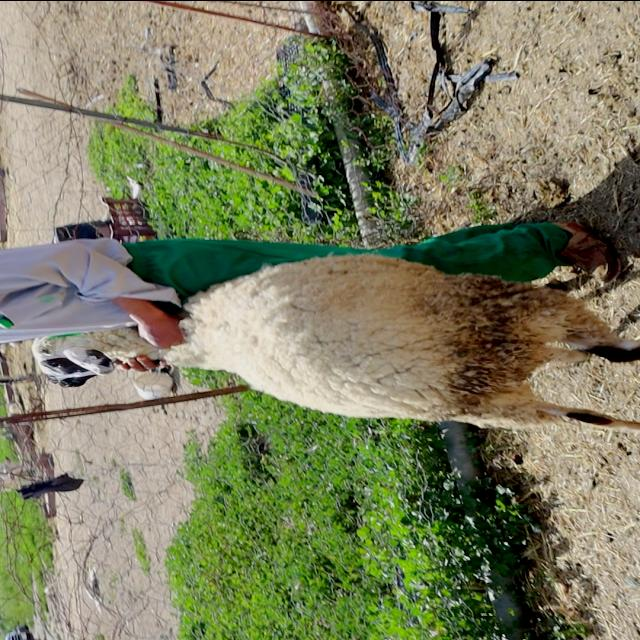Score_5: (31, 255, 639, 430)
